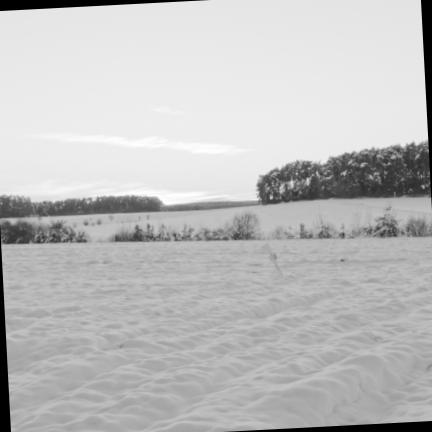Shahed: (262, 244, 283, 277)
